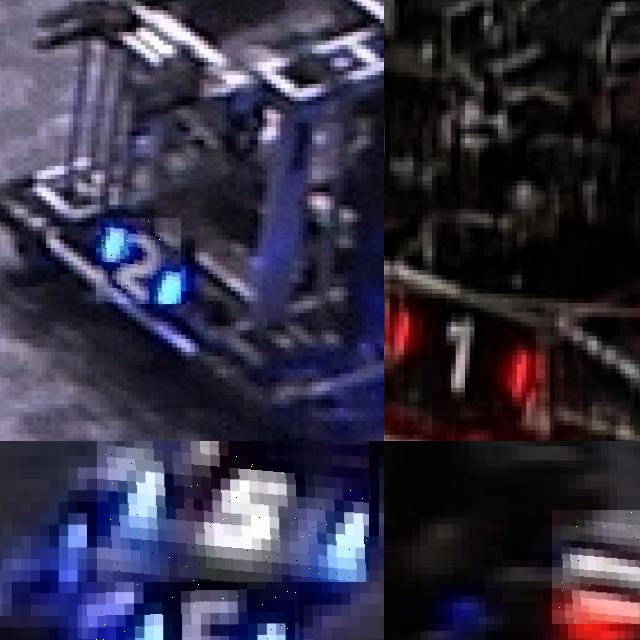B2: (96, 218, 181, 304)
B5: (96, 441, 369, 581), (82, 581, 298, 640)
R1: (390, 303, 531, 397), (551, 510, 640, 624)
